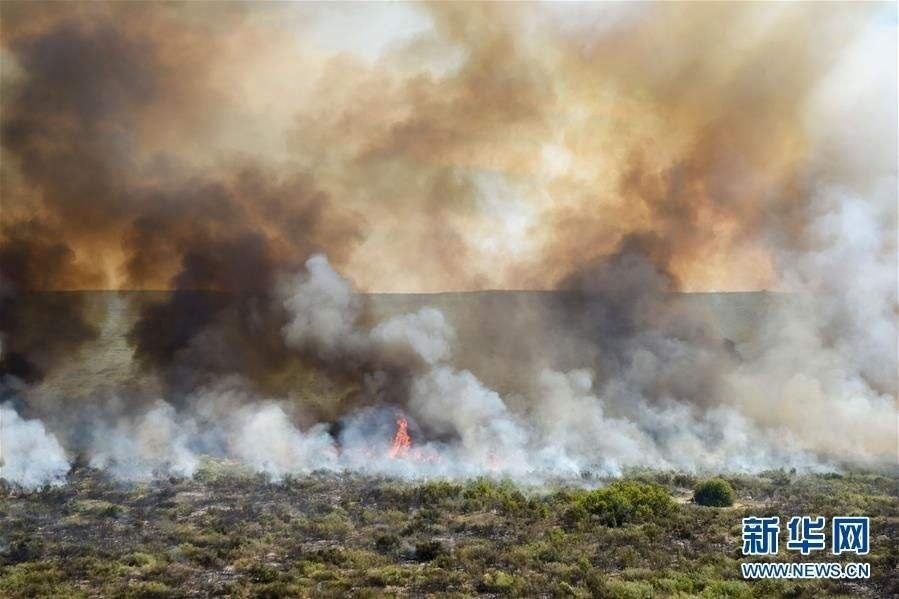fire: (366, 412, 451, 468), (380, 412, 420, 456)
